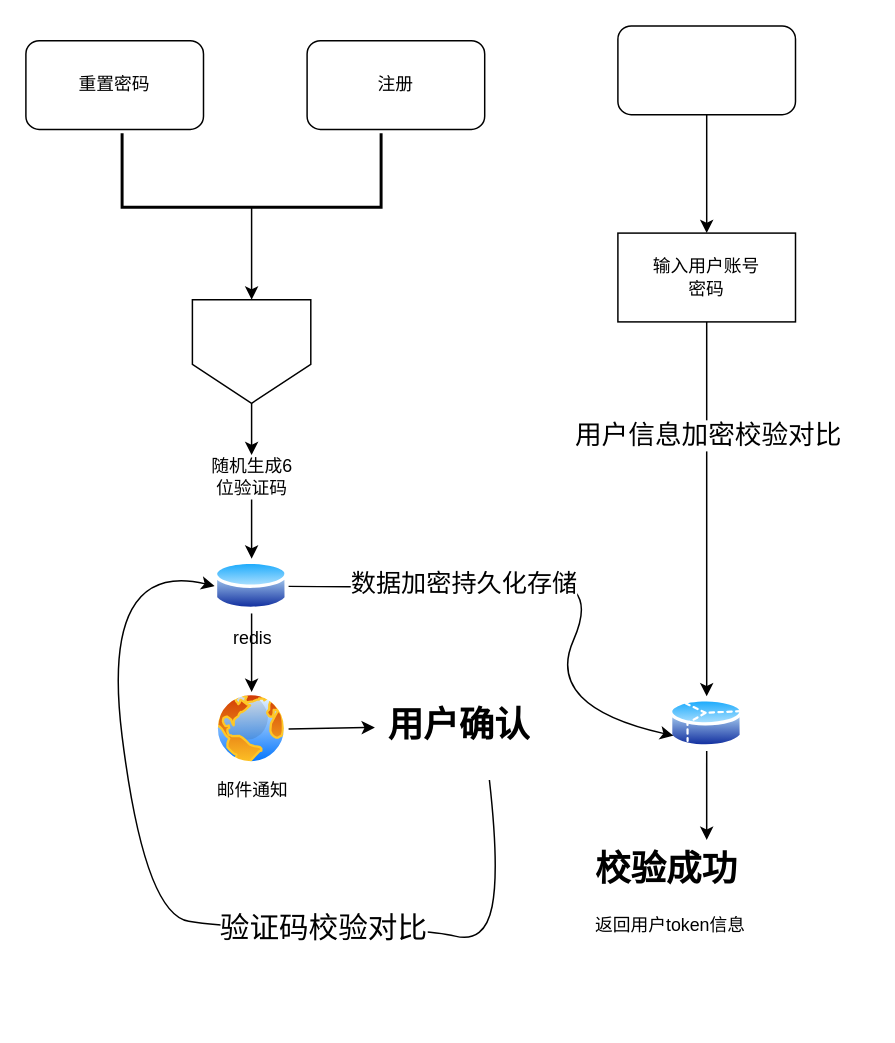
Image size: 895x1043. Some labels were removed from this diagram. The shapes that lost their labels are listed below. From the top down, each one's centre as x and y in pixels, then its label:
(x=706, y=69): 登录
(x=251, y=350): 输入用户邮箱
(x=706, y=723): 数据库
